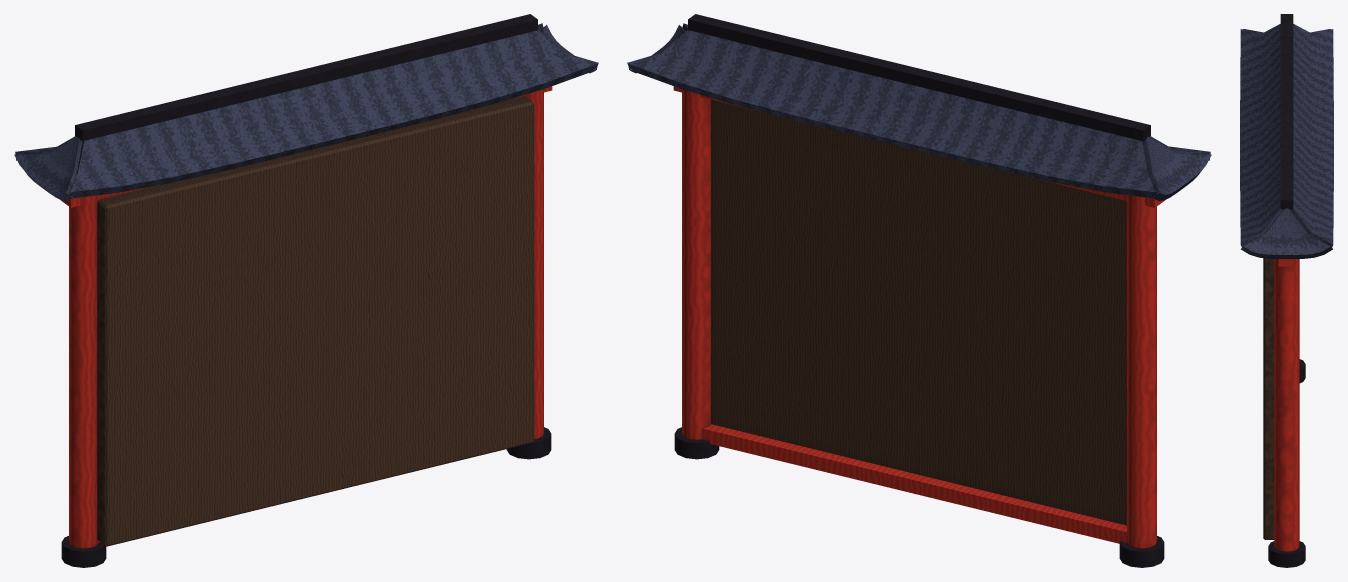
Rendered from leaderboard_frame.fbx.
3 views of the same model, side by side, from view 1: azimuth 30°, elevation 25°; view 2: azimuth 150°, elevation 25°; view 3: azimuth 270°, elevation 25° (orthographic). The views are drawn at different scales.
Visible parts, largest first — view 1: leaderboard_frame; view 2: leaderboard_frame; view 3: leaderboard_frame.
Part boxes in pixels (x1,y1,x2,y2): leaderboard_frame: [14, 14, 598, 567]; leaderboard_frame: [627, 14, 1211, 567]; leaderboard_frame: [1240, 14, 1333, 567].
Bounding box in the file's own units: 2059 × 1595 × 374.
1 material, 1 textured.
